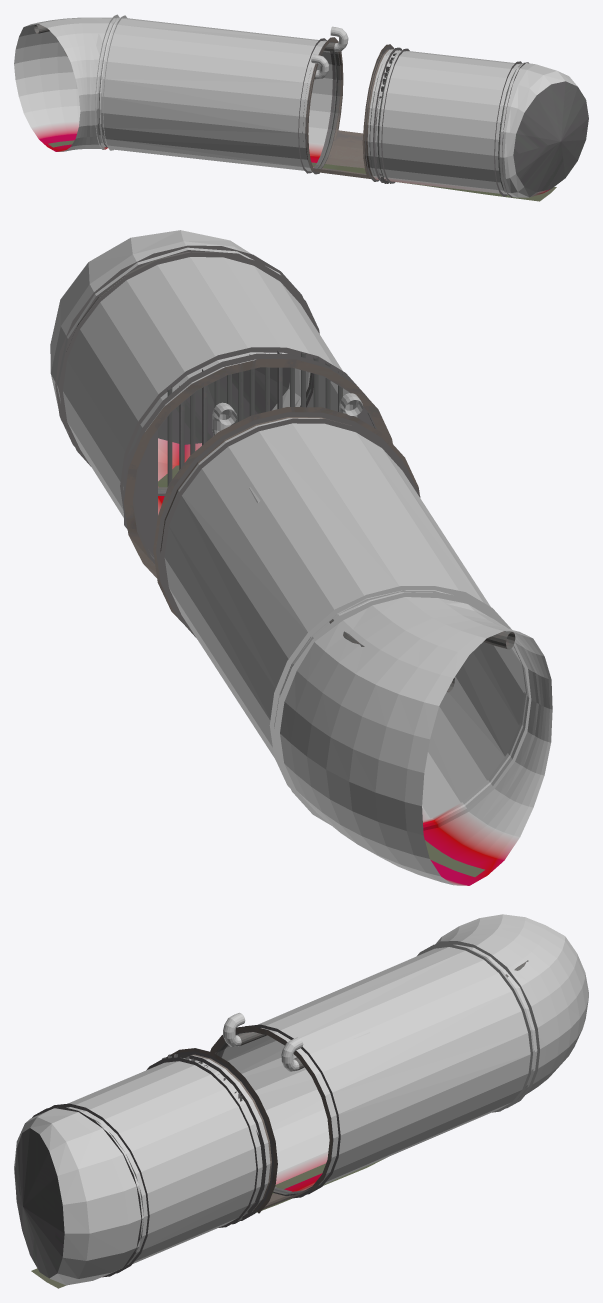
File: AreaJ_Pipe_Inside_Bb.fbx
3 views of the same model, one above another, from view 1: azimuth 30°, elevation 25°; view 2: azimuth 150°, elevation 25°; view 3: azimuth 270°, elevation 25° (orthographic). The views are drawn at different scales.
Parts seen in each view (by area): view 1: SM_ENV_AMVLLG02_AreaJ_Pipe_Inside_Bb.mo; view 2: SM_ENV_AMVLLG02_AreaJ_Pipe_Inside_Bb.mo; view 3: SM_ENV_AMVLLG02_AreaJ_Pipe_Inside_Bb.mo.
Part boxes in pixels (x1=…): SM_ENV_AMVLLG02_AreaJ_Pipe_Inside_Bb.mo: x1=14, y1=14, x2=588, y2=201; SM_ENV_AMVLLG02_AreaJ_Pipe_Inside_Bb.mo: x1=50, y1=230, x2=552, y2=885; SM_ENV_AMVLLG02_AreaJ_Pipe_Inside_Bb.mo: x1=14, y1=914, x2=588, y2=1288.
Size of the model in its own units: 5138 by 1685 by 5179.
